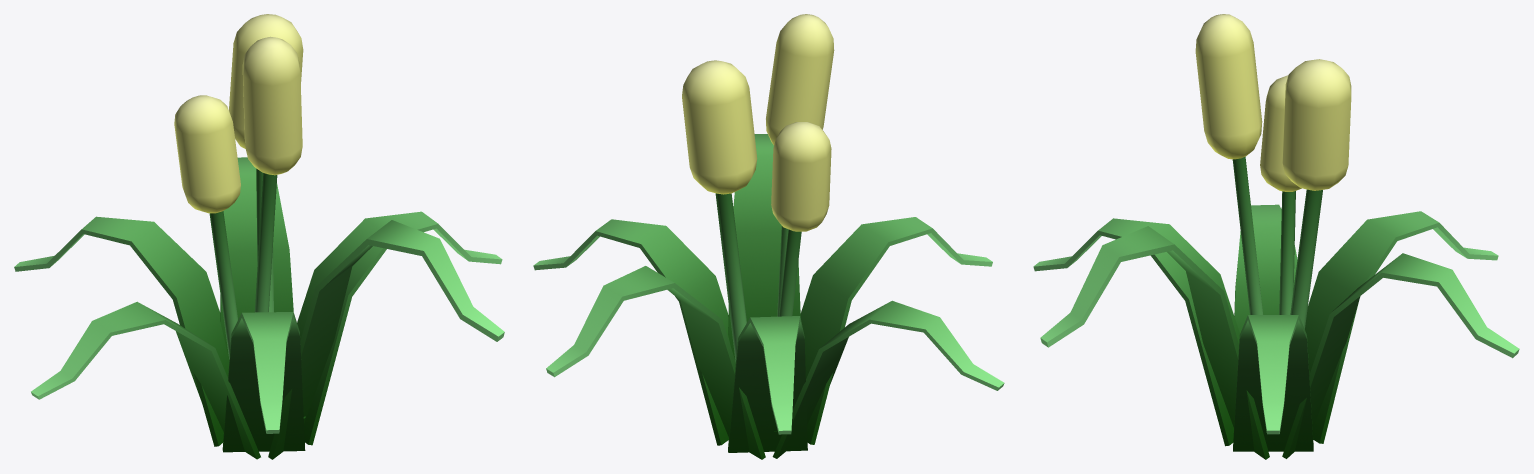
File: Plant01_Yellow.fbx
3 views of the same model, side by side, from view 1: azimuth 30°, elevation 25°; view 2: azimuth 150°, elevation 25°; view 3: azimuth 270°, elevation 25° (orthographic). The views are drawn at different scales.
Parts seen in each view (by area): view 1: pasted__pasted__Plane.001, pasted__pasted__Plane.008, pasted__pasted__Plane.004, pasted__pasted__pSphere3, pasted__pasted__Plane.005, pasted__pasted__pSphere2, pasted__pasted__Plane.006, pasted__pasted__Plane.007, pasted__pasted__pSphere1, pasted__pasted__Cylinder.017, pasted__pasted__Cylinder.016, pasted__pasted__Cylinder.015; view 2: pasted__pasted__Plane.004, pasted__pasted__pSphere1, pasted__pasted__Plane.006, pasted__pasted__Plane.001, pasted__pasted__Plane.008, pasted__pasted__pSphere3, pasted__pasted__Plane.007, pasted__pasted__pSphere2, pasted__pasted__Plane.005, pasted__pasted__Cylinder.015, pasted__pasted__Cylinder.016; view 3: pasted__pasted__Plane.007, pasted__pasted__Plane.008, pasted__pasted__pSphere1, pasted__pasted__Plane.004, pasted__pasted__pSphere3, pasted__pasted__Plane.006, pasted__pasted__Plane.001, pasted__pasted__Plane.005, pasted__pasted__pSphere2, pasted__pasted__Cylinder.015, pasted__pasted__Cylinder.017, pasted__pasted__Cylinder.016.
Boxes of the visible parts, box(x1,y1,x2,y2) form: pasted__pasted__Plane.001: box(222, 312, 305, 452); pasted__pasted__Plane.008: box(268, 220, 504, 459); pasted__pasted__Plane.004: box(14, 216, 229, 446); pasted__pasted__pSphere3: box(242, 36, 302, 175); pasted__pasted__Plane.005: box(31, 301, 260, 459); pasted__pasted__pSphere2: box(174, 95, 240, 213); pasted__pasted__Plane.006: box(220, 157, 293, 359); pasted__pasted__Plane.007: box(297, 211, 502, 445); pasted__pasted__pSphere1: box(229, 14, 303, 148); pasted__pasted__Cylinder.017: box(254, 173, 277, 312); pasted__pasted__Cylinder.016: box(209, 211, 237, 359); pasted__pasted__Cylinder.015: box(256, 168, 273, 312); pasted__pasted__Plane.004: box(728, 316, 807, 452); pasted__pasted__pSphere1: box(682, 60, 757, 194); pasted__pasted__Plane.006: box(546, 266, 765, 459); pasted__pasted__Plane.001: box(800, 217, 992, 444); pasted__pasted__Plane.008: box(728, 134, 800, 359); pasted__pasted__pSphere3: box(766, 14, 834, 145); pasted__pasted__Plane.007: box(533, 219, 730, 445); pasted__pasted__pSphere2: box(771, 122, 831, 231); pasted__pasted__Plane.005: box(772, 300, 1004, 458); pasted__pasted__Cylinder.015: box(715, 193, 746, 361); pasted__pasted__Cylinder.016: box(779, 229, 801, 316); pasted__pasted__Plane.007: box(1233, 315, 1313, 451); pasted__pasted__Plane.008: box(1040, 226, 1269, 459); pasted__pasted__pSphere1: box(1282, 59, 1351, 190); pasted__pasted__Plane.004: box(1305, 211, 1498, 443); pasted__pasted__pSphere3: box(1195, 14, 1262, 159); pasted__pasted__Plane.006: box(1282, 253, 1519, 458); pasted__pasted__Plane.001: box(1033, 218, 1239, 446); pasted__pasted__Plane.005: box(1234, 204, 1297, 333); pasted__pasted__pSphere2: box(1260, 75, 1301, 191); pasted__pasted__Cylinder.015: box(1290, 189, 1322, 329); pasted__pasted__Cylinder.017: box(1232, 156, 1263, 314); pasted__pasted__Cylinder.016: box(1279, 191, 1295, 314).
Size of the model in its own units: 46.2 by 39.31 by 41.9.
